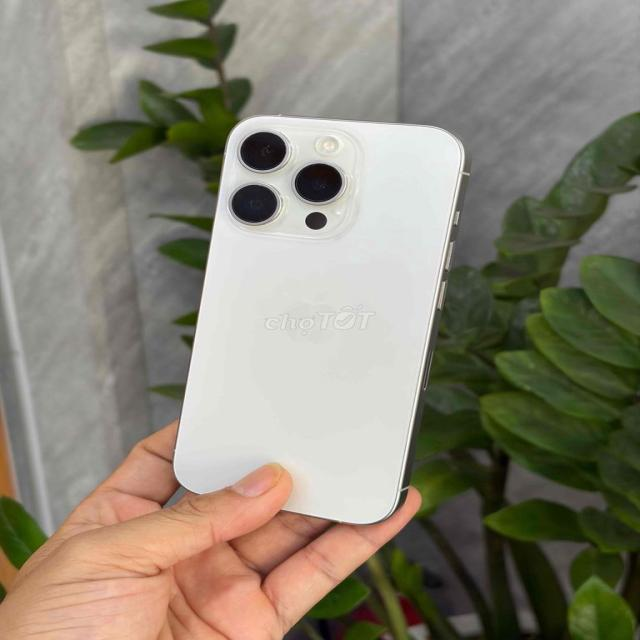gen_15: (178, 113, 472, 528)
